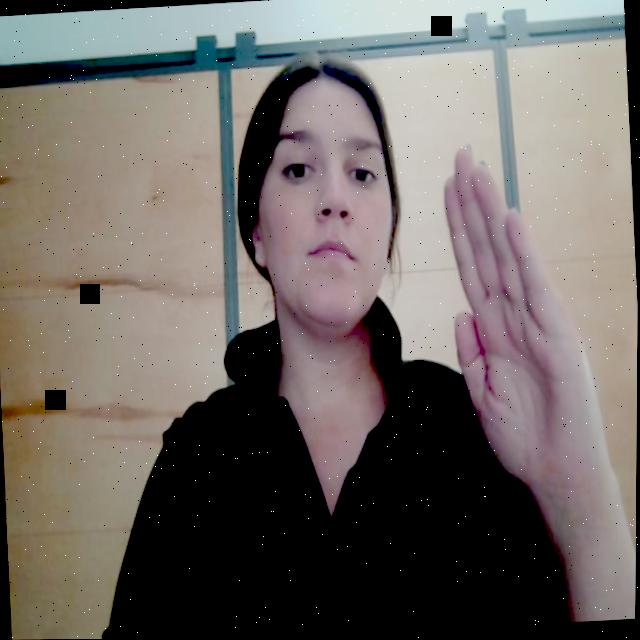Paper: (426, 145, 638, 510)
